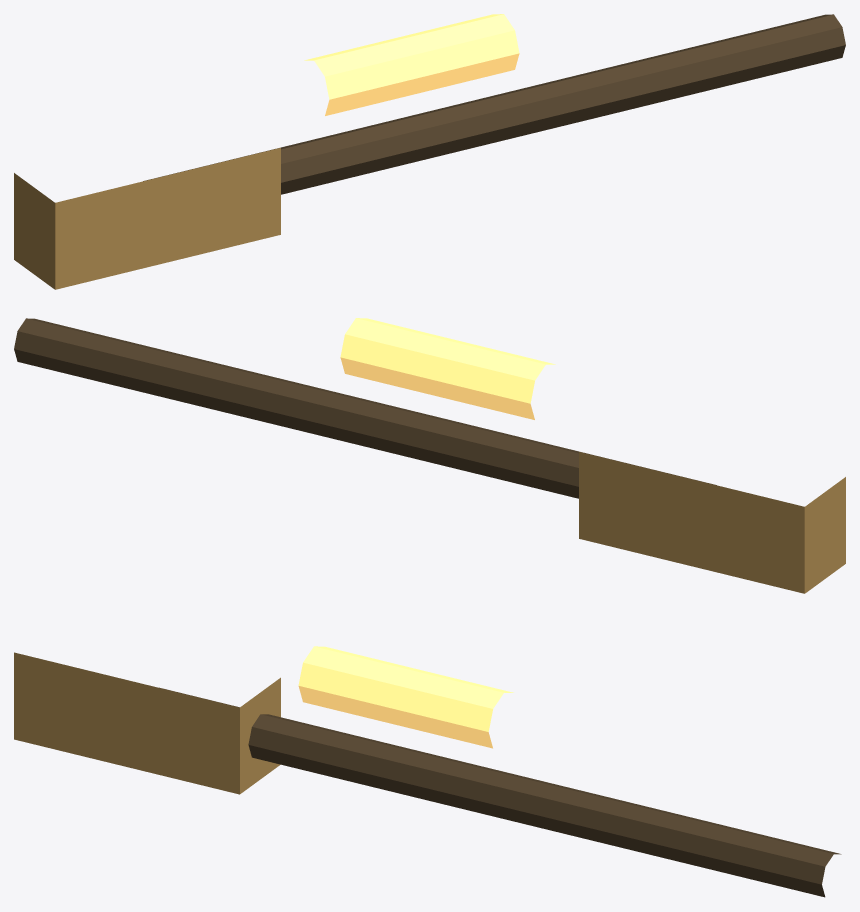
Rendered from sniper.glb.
The picture shows the model from 3 angles, top to bottom: view 1: azimuth 30°, elevation 25°; view 2: azimuth 150°, elevation 25°; view 3: azimuth 330°, elevation 25°; orthographic projection.
Parts seen in each view (by area): view 1: sniper-barrel, sniper-stock, sniper-scope; view 2: sniper-barrel, sniper-stock, sniper-scope; view 3: sniper-barrel, sniper-stock, sniper-scope.
Boxes of the visible parts, <box> form: sniper-barrel: <box>143,14,845,194</box>; sniper-stock: <box>14,148,280,289</box>; sniper-scope: <box>304,14,519,115</box>; sniper-barrel: <box>14,318,716,498</box>; sniper-stock: <box>579,452,845,593</box>; sniper-scope: <box>340,318,555,419</box>; sniper-barrel: <box>159,687,841,897</box>; sniper-stock: <box>14,652,280,794</box>; sniper-scope: <box>298,646,513,748</box>.
Size of the model in its own units: 1.35 by 0.235 by 0.12.
